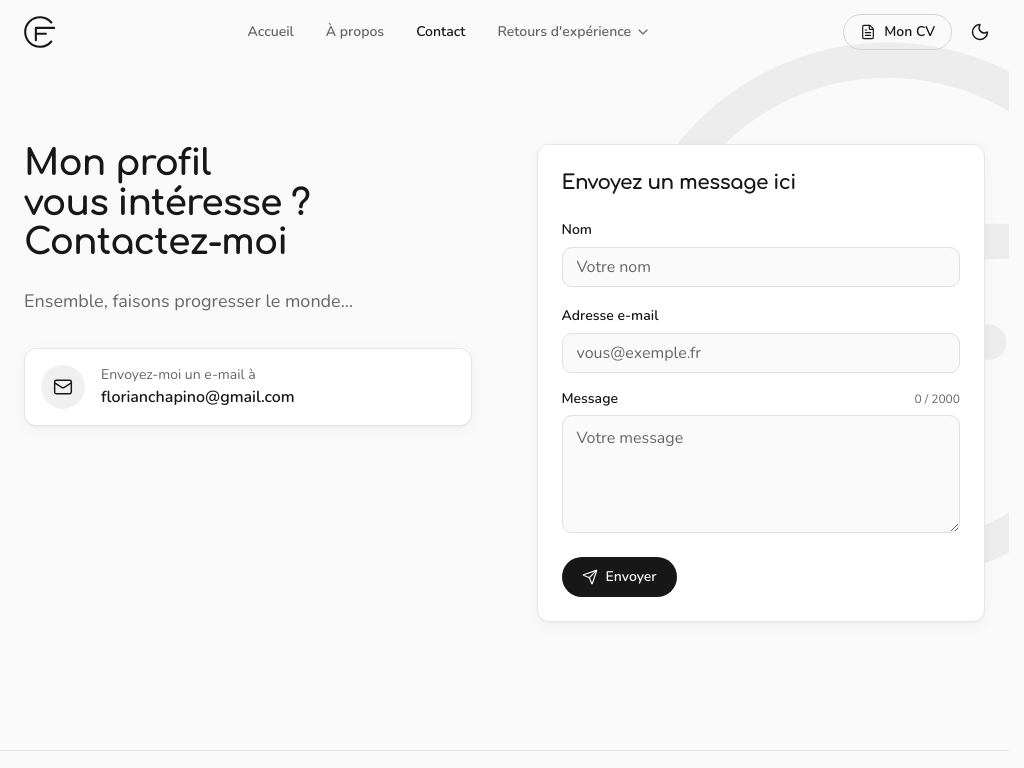
the contact form points out the missing fields and sends nothing
The width and height of the screenshot is (1024, 768).
Click the button "Envoyer" at (619, 577), box [562,557,677,597]
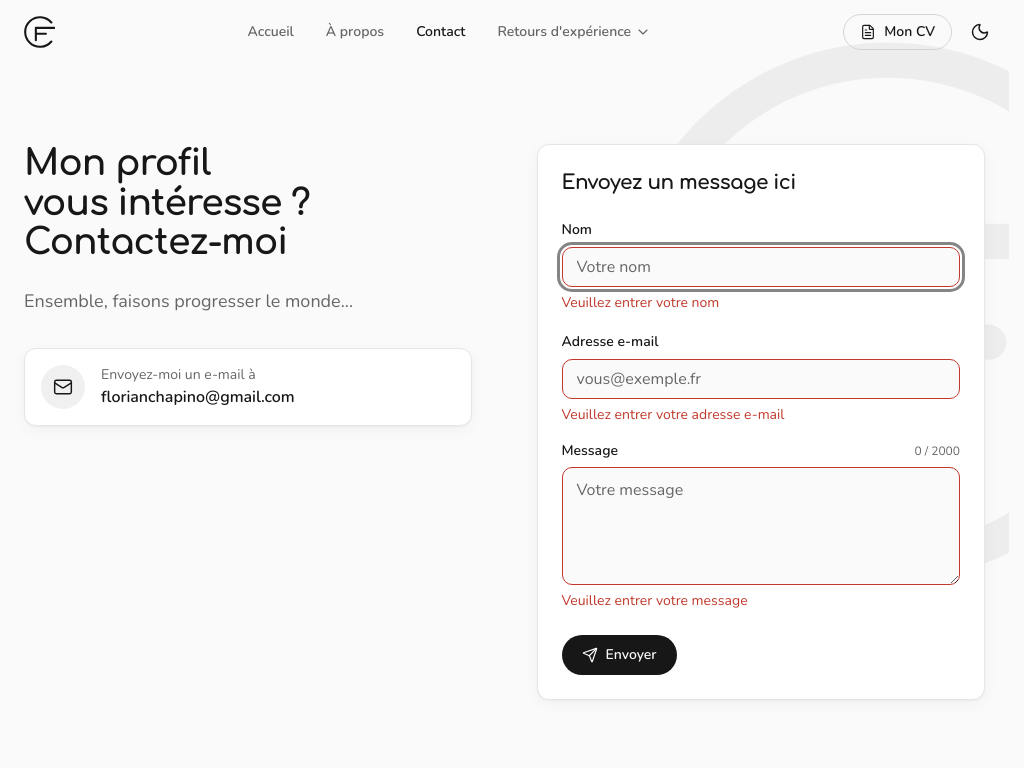
Expected: the text "Veuillez entrer votre nom" is shown, [562,293,719,312]
Expected: the text "Veuillez entrer votre adresse e-mail" is shown, [562,405,784,424]
Expected: the text "Veuillez entrer votre message" is shown, [562,591,748,610]
